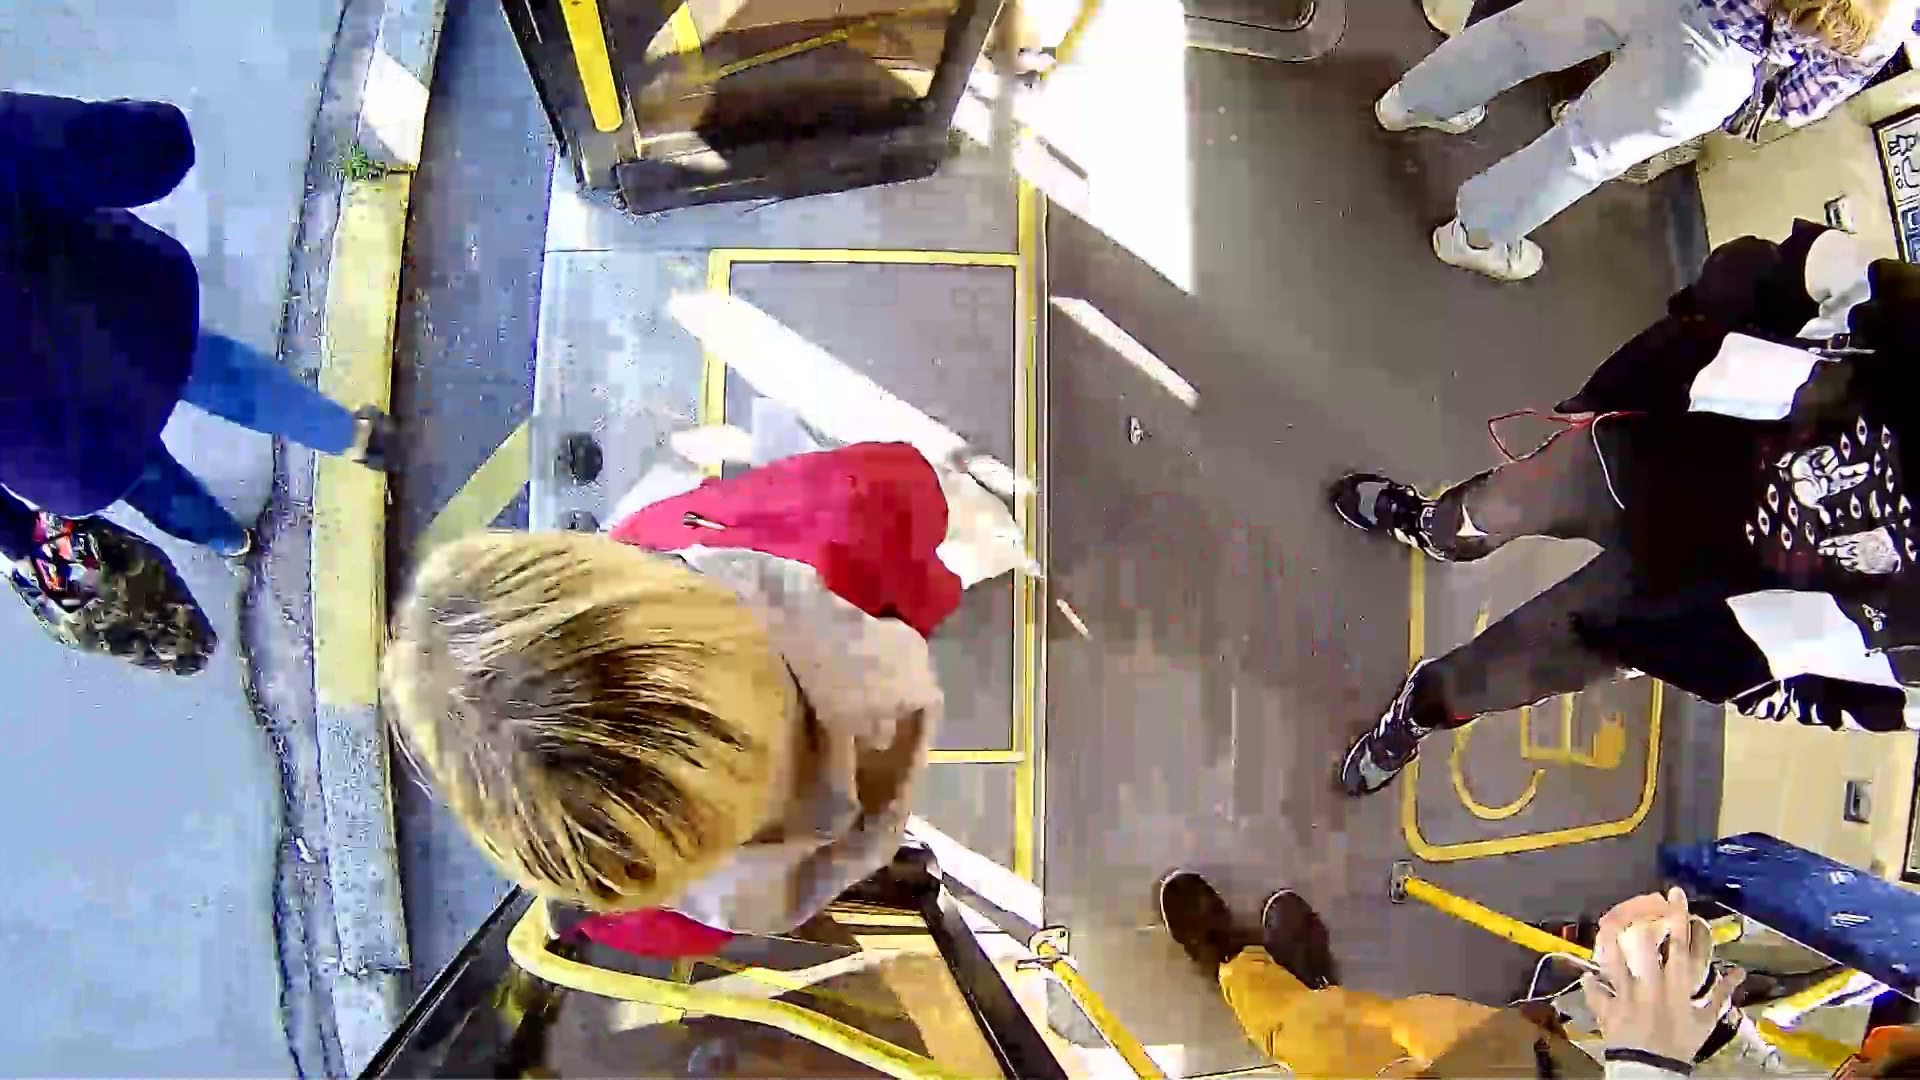person: (332, 390, 1091, 965)
